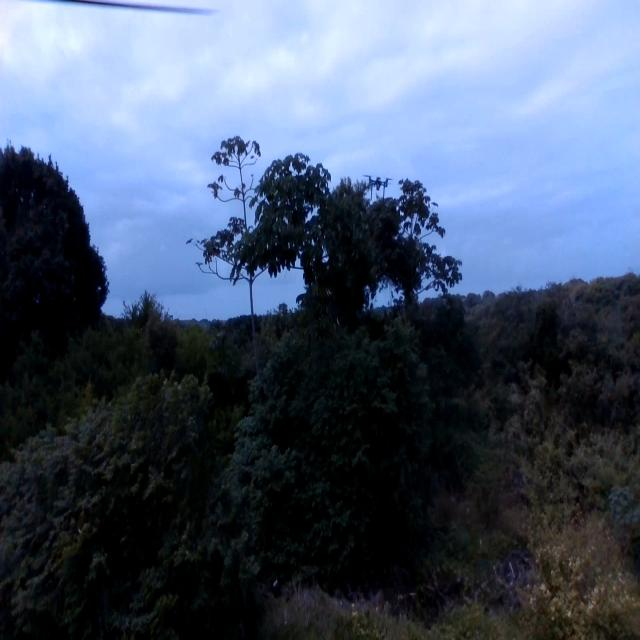-uav-: (358, 158, 395, 209)
